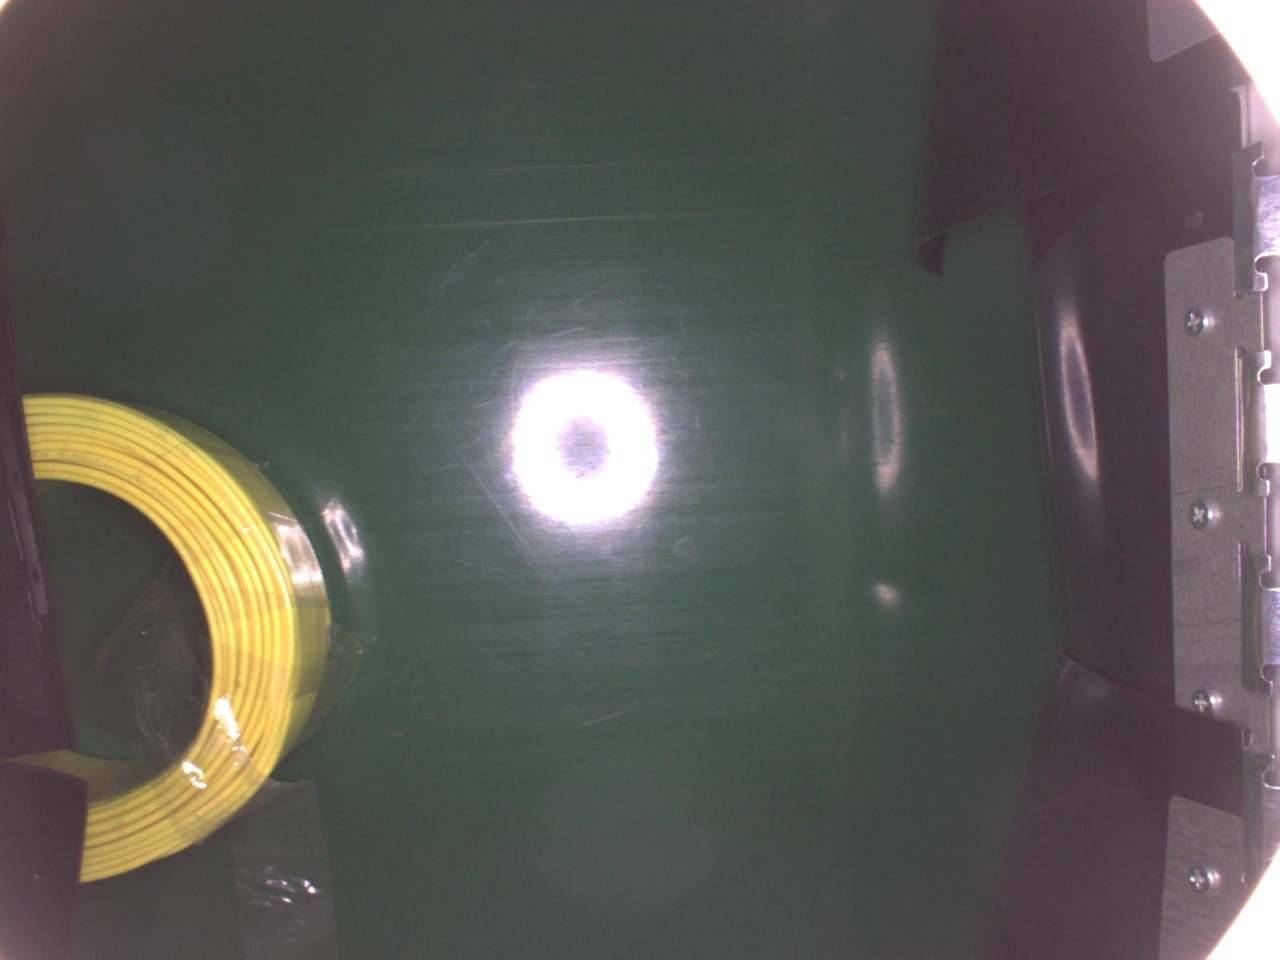yellow: (19, 387, 333, 882)
